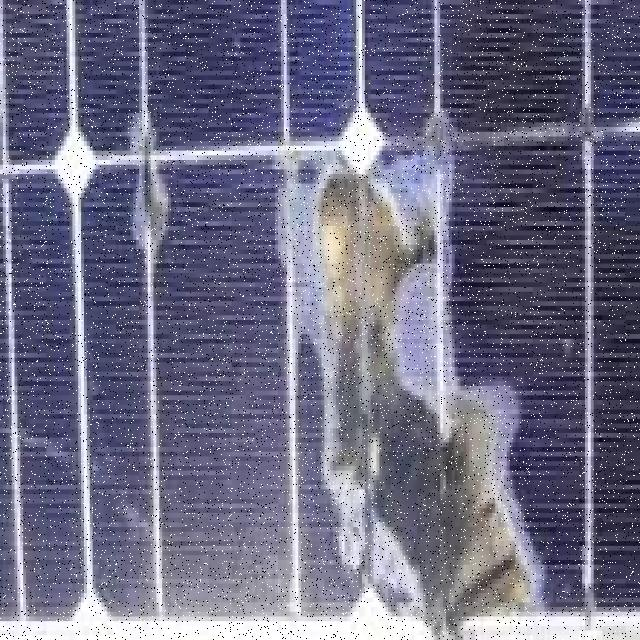electrical damage: (252, 60, 560, 620)
